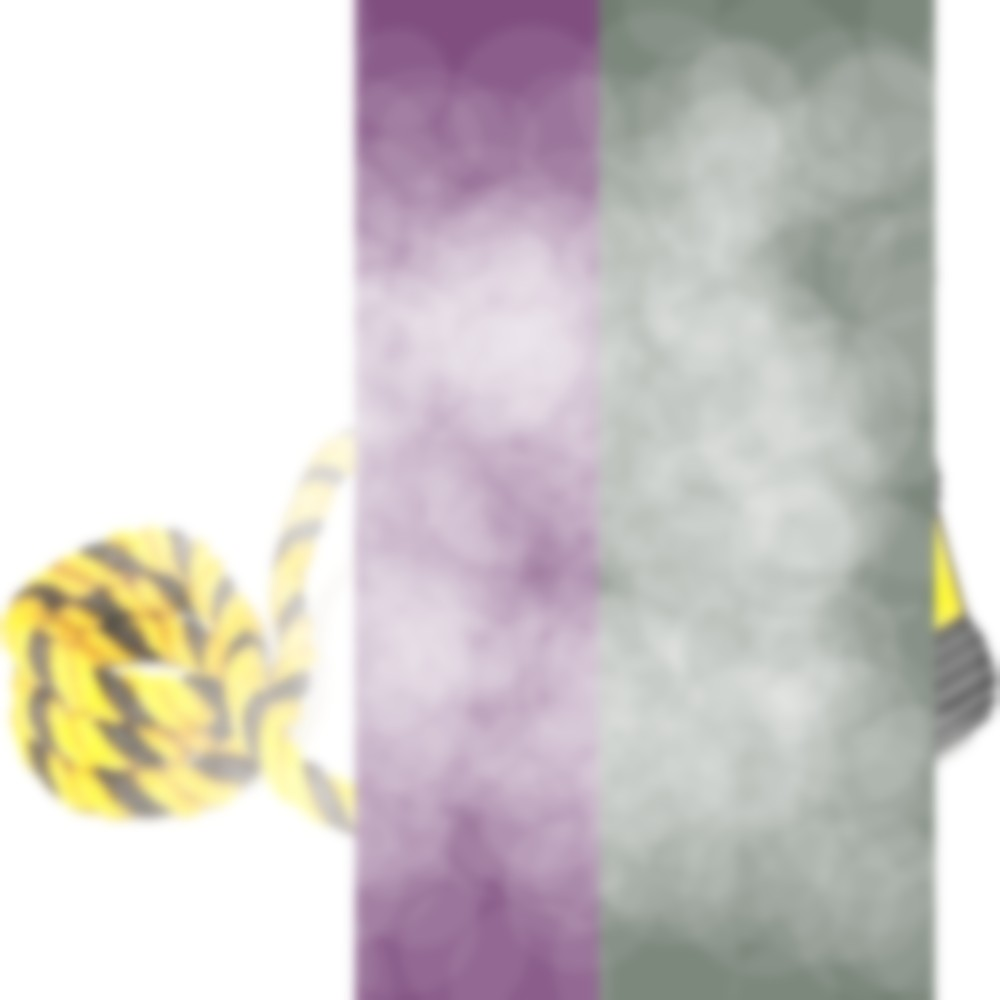chock: (414, 407, 1000, 979), (347, 4, 939, 533)
